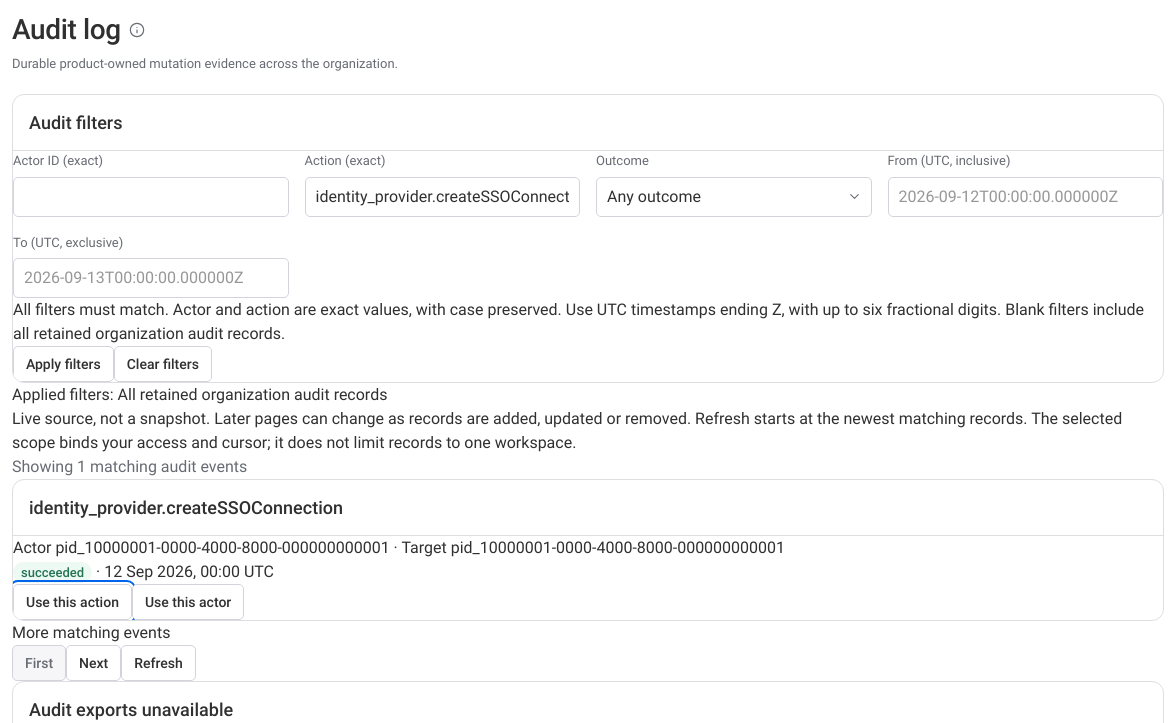
bounded audit browsing › keeps drafts separate and resends all five normalized filters on every continuation
Earlier steps of the test are not shown.
Click the button "Use this actor" at (188, 602), box [132,584,244,620]
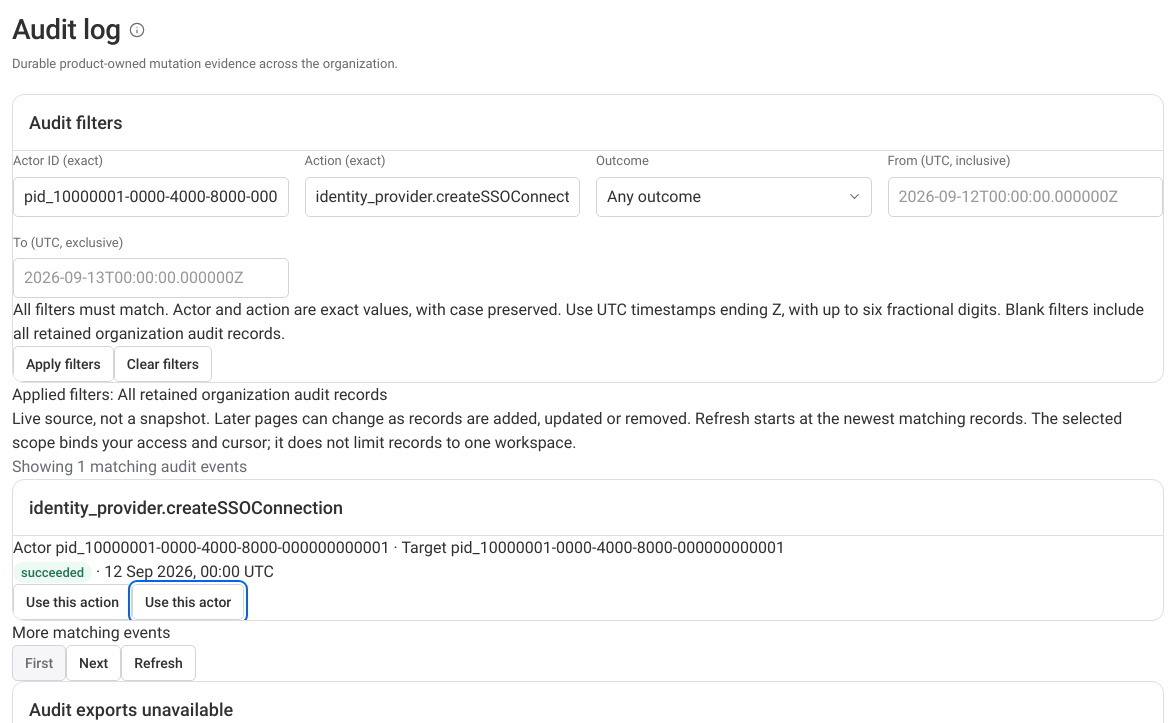
Expected: the field labelled "Action (exact)" holds "identity_provider.createSSOConnection", [304,176,580,216]
Now the field labelled "Actor ID (exact)" holds "pid_10000001-0000-4000-8000-000000000001", box [13,176,288,216]
Select "Denied" in the dropdown labelled "Outcome" at (734, 196), box [596,176,872,216]
Type "2026-09-12T00:00:00.123455Z" into the field labelled "From (UTC, inclusive)" at (1025, 196), box [888,176,1163,216]
Type "2026-09-12T00:00:00.123456Z" into the field labelled "To (UTC, exclusive)" at (151, 278), box [13,258,288,298]
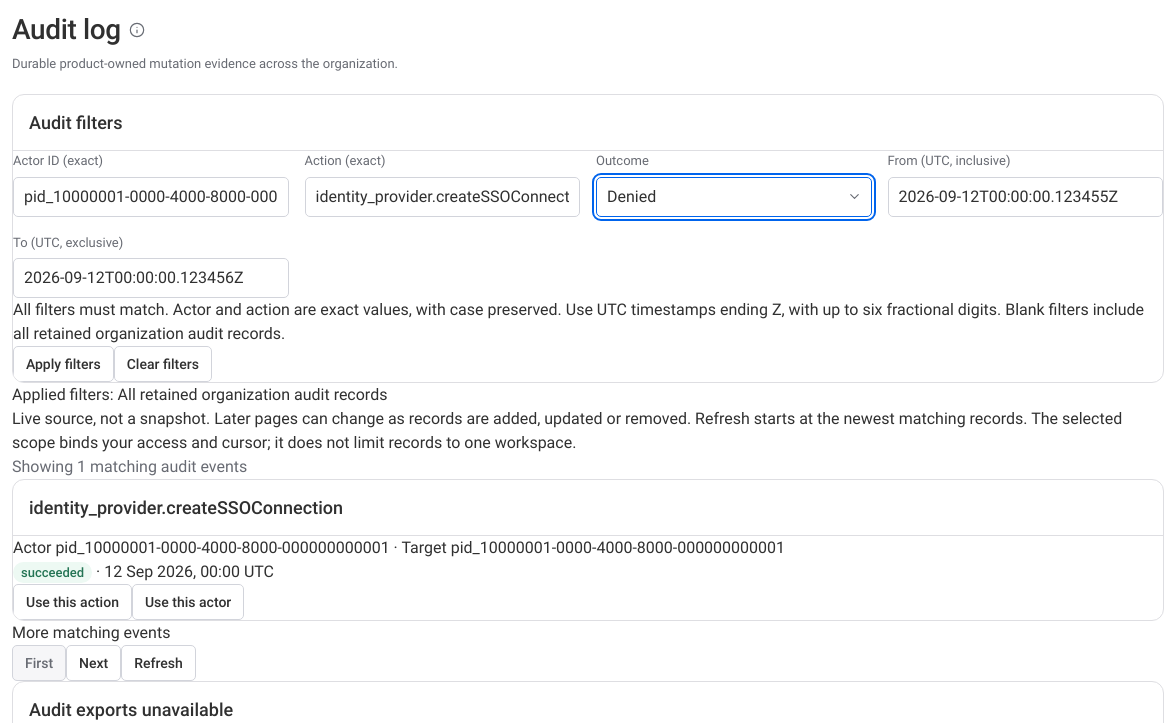
Click the button "Apply filters" at (63, 364), box [13,346,114,382]
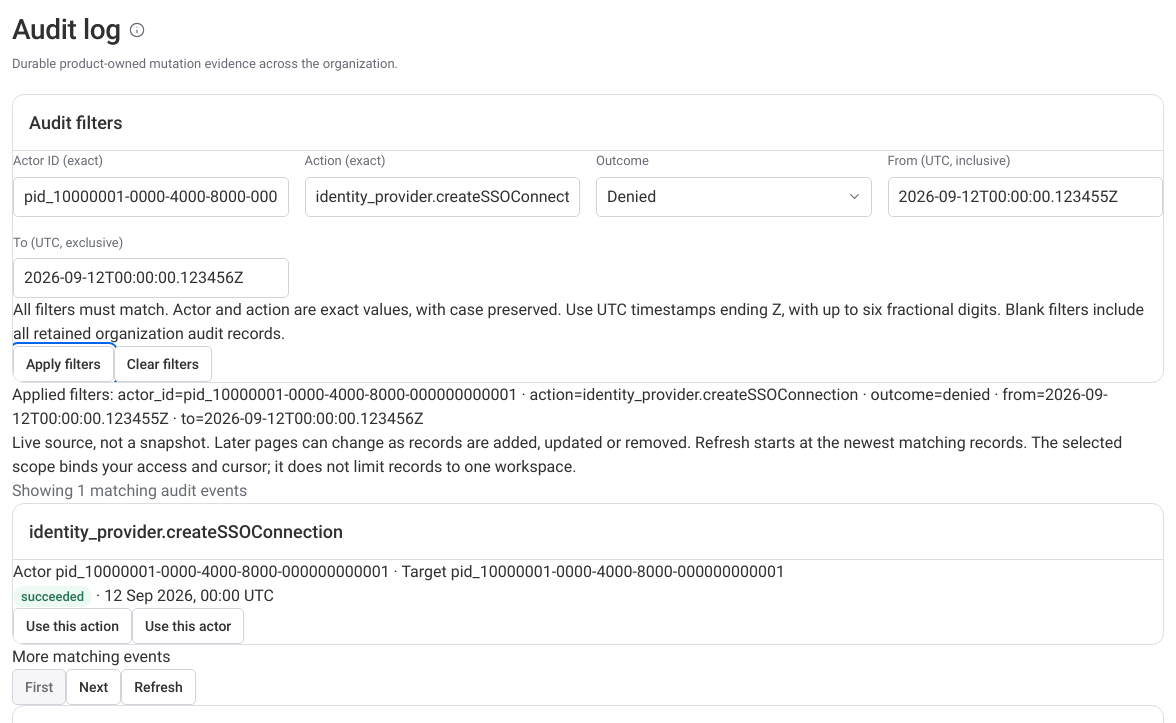
Replace the text in the field labelled "Action (exact)" with "draft.change" at (442, 196), box [304,176,580,216]
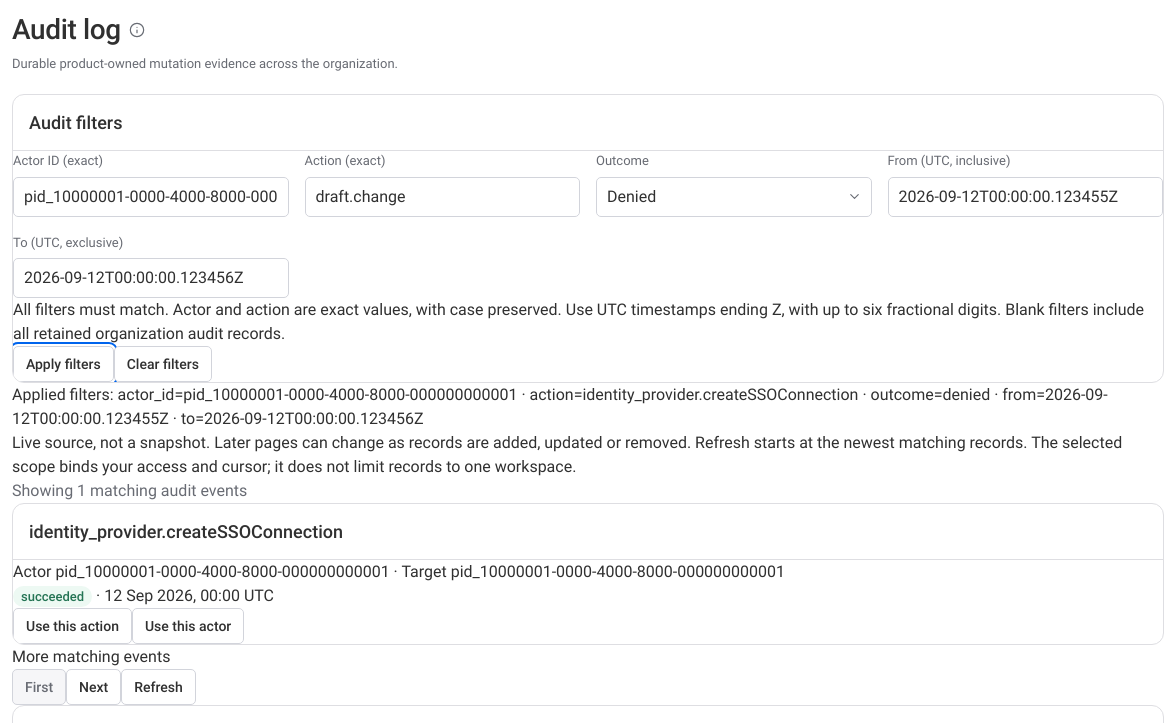
Click the button "Next" at (94, 687), box [66,669,121,705]
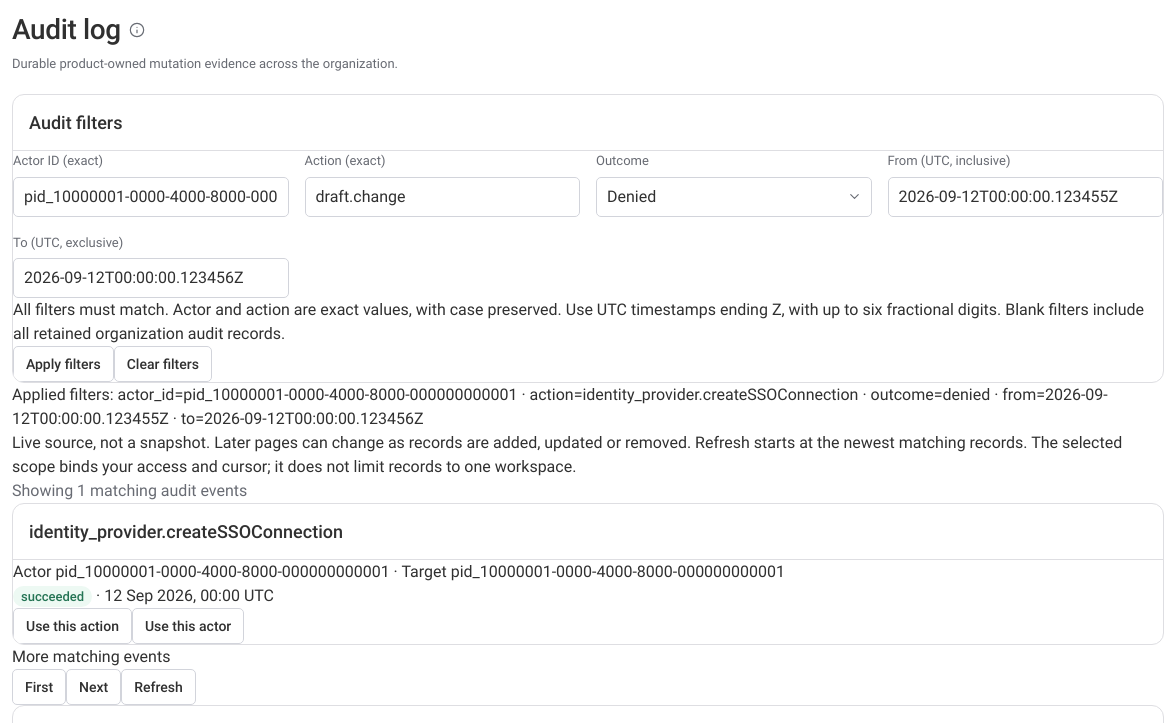
Expected: the text named "Applied audit filters" does not show "draft.change", [12,383,1164,431]
Now the text named "Applied audit filters" shows "identity_provider.createSSOConnection", box [12,385,1108,428]
Click the button "Clear filters" at (163, 364), box [114,346,212,382]
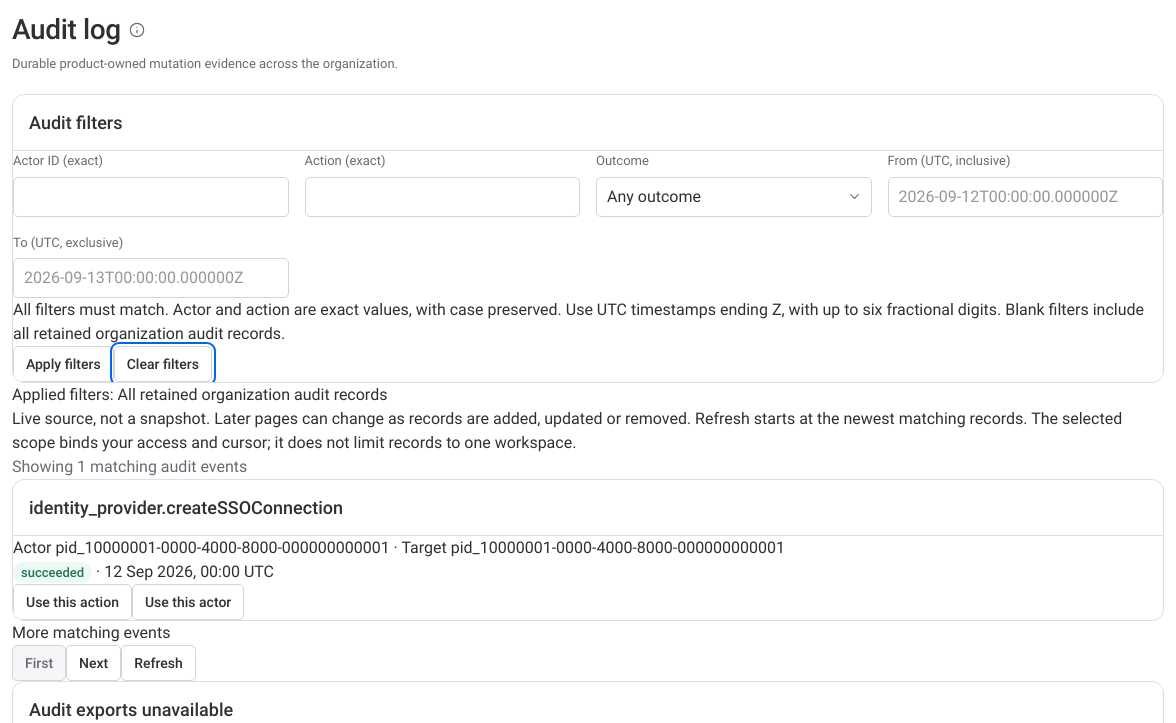
Now the field labelled "Action (exact)" is empty, box [304,176,580,216]
